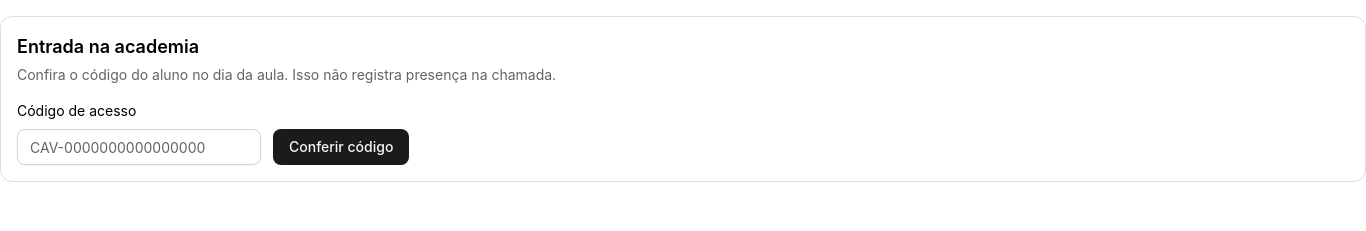
it: verifies entry separately from attendance and rejects reused code
Type "cav-abcdef0123456789" into the field labelled "Código de acesso" at (139,147), box top-left (17, 129), bottom-right (261, 165)
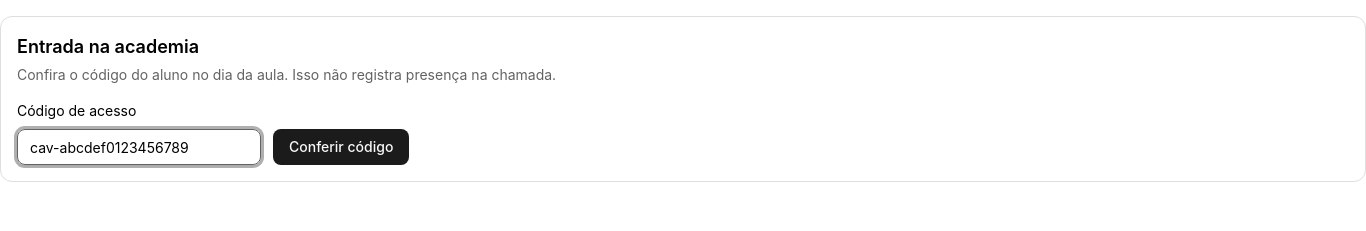
Click the button "Conferir código" at (341,147), box top-left (273, 129), bottom-right (409, 165)
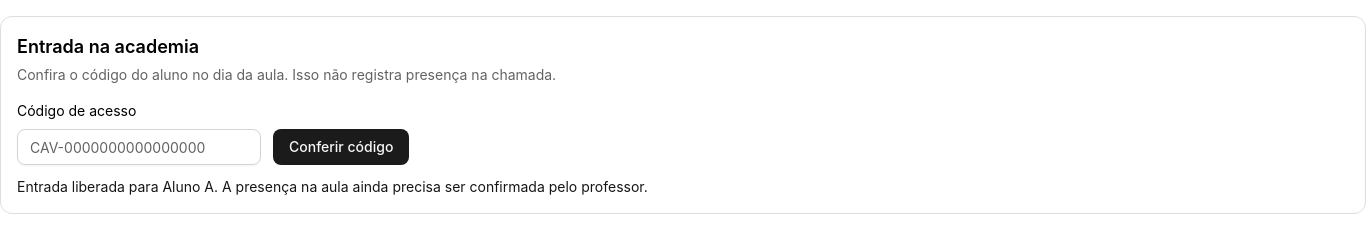
Result: the message shows "Entrada liberada para Aluno A. A presença na aula ainda precisa ser confirmada pelo professor." at top-left (17, 178), bottom-right (648, 195)
